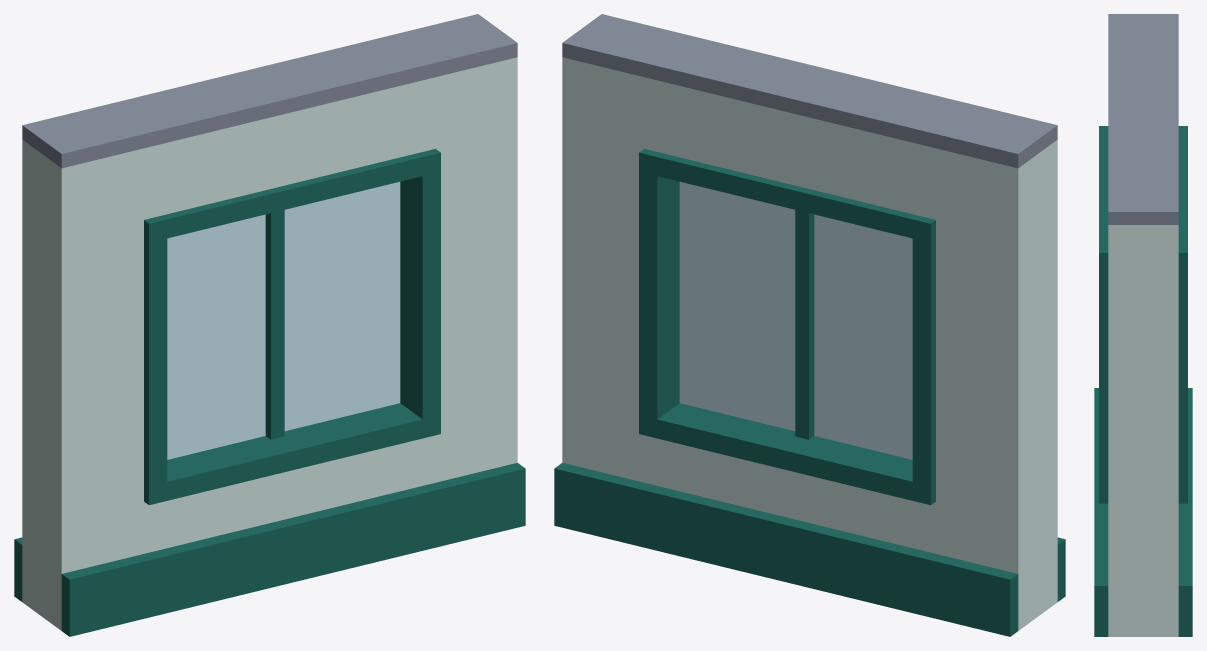
Rendered from wall-window.glb.
The picture shows the model from 3 angles, left to right: view 1: azimuth 30°, elevation 25°; view 2: azimuth 150°, elevation 25°; view 3: azimuth 270°, elevation 25°; orthographic projection. The views are drawn at different scales.
Visible parts, largest first — view 1: wall-window; view 2: wall-window; view 3: wall-window.
Part boxes in pixels (x1,y1,x2,y2): wall-window: (14, 14, 525, 636); wall-window: (554, 14, 1065, 636); wall-window: (1094, 14, 1192, 636).
Size of the model in its own units: 1 by 1 by 0.21.
1 material, 1 textured.
